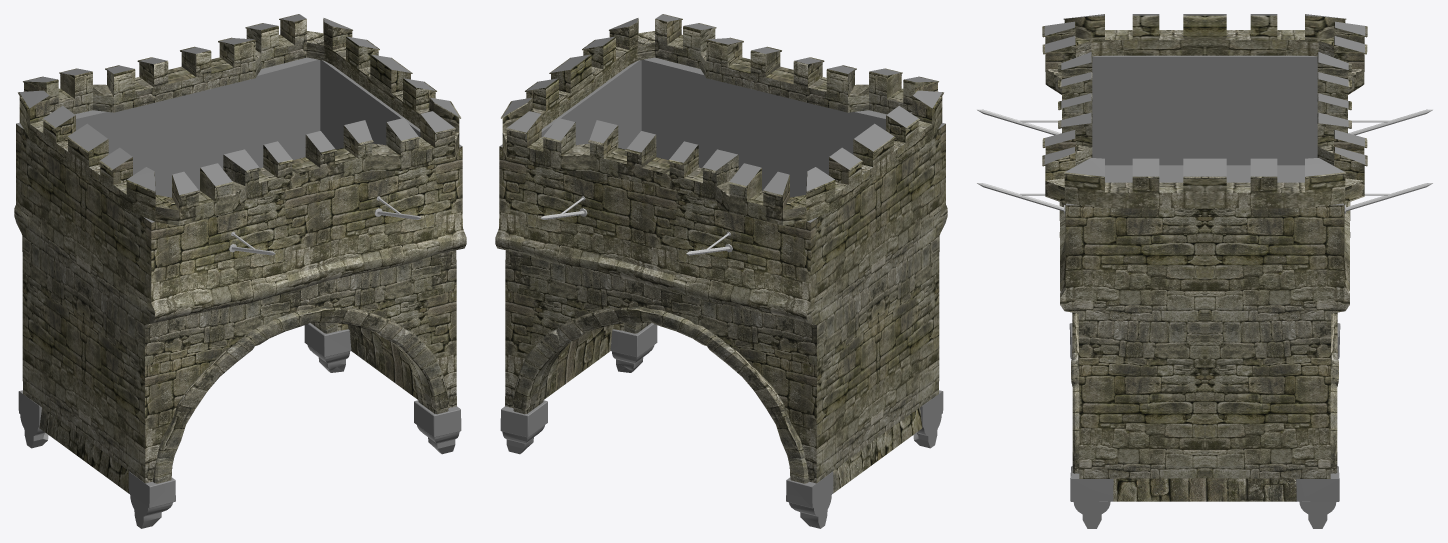
The model's file is torbogen.fbx.
3 renders of one model, left to right at view 1: azimuth 30°, elevation 25°; view 2: azimuth 150°, elevation 25°; view 3: azimuth 270°, elevation 25°, orthographic. The views are drawn at different scales.
Parts seen in each view (by area): view 1: Mesh; view 2: Mesh; view 3: Mesh.
Part boxes in pixels (x1,y1,x2,y2): Mesh: (14, 14, 466, 528); Mesh: (495, 14, 947, 528); Mesh: (977, 14, 1432, 528).
Size of the model in its own units: 850 by 879 by 1002.
